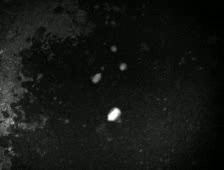corn: (104, 105, 121, 123), (90, 72, 104, 84), (116, 61, 130, 72), (107, 43, 118, 53)
